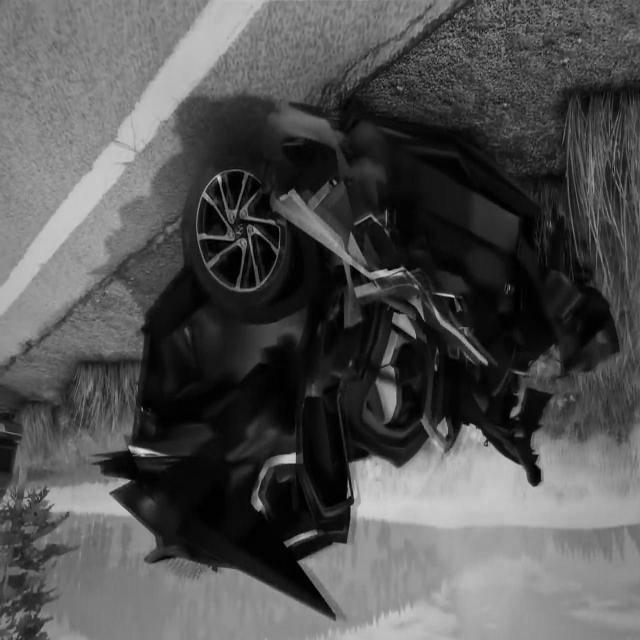severe: (90, 96, 625, 630)
